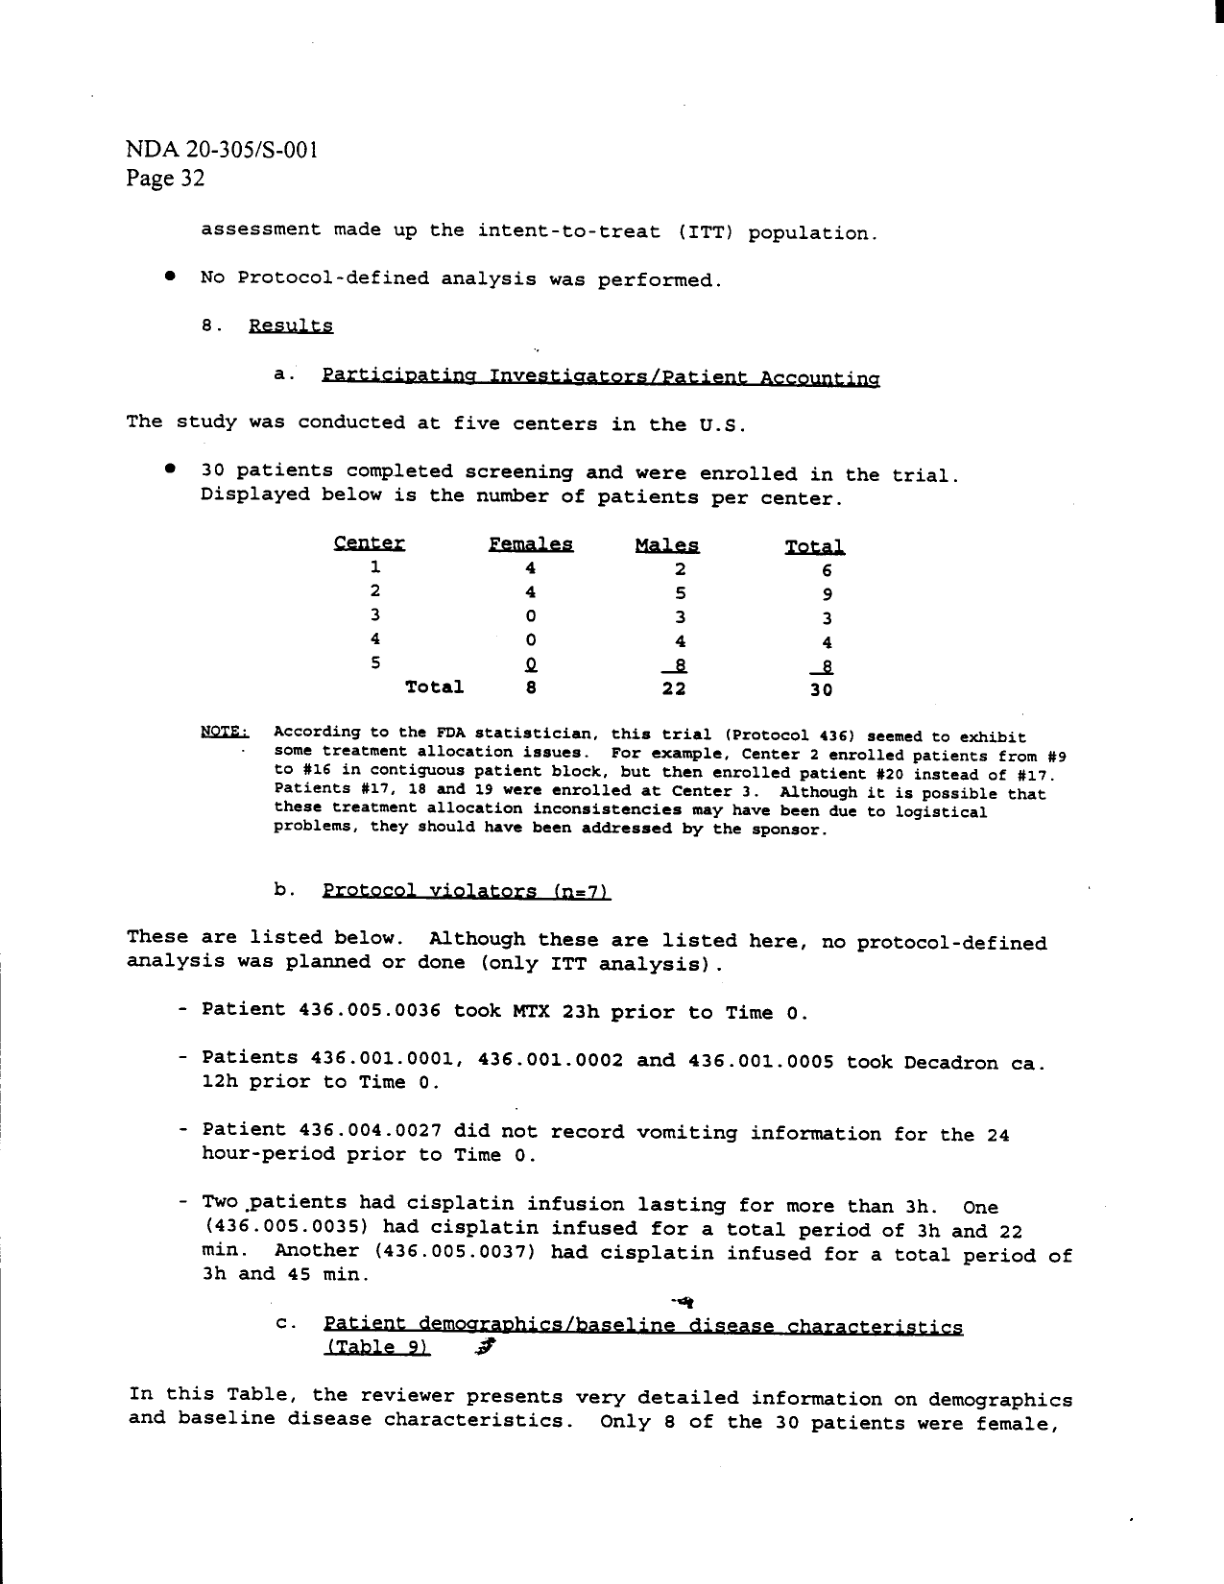nolines: (330, 536, 847, 696)
